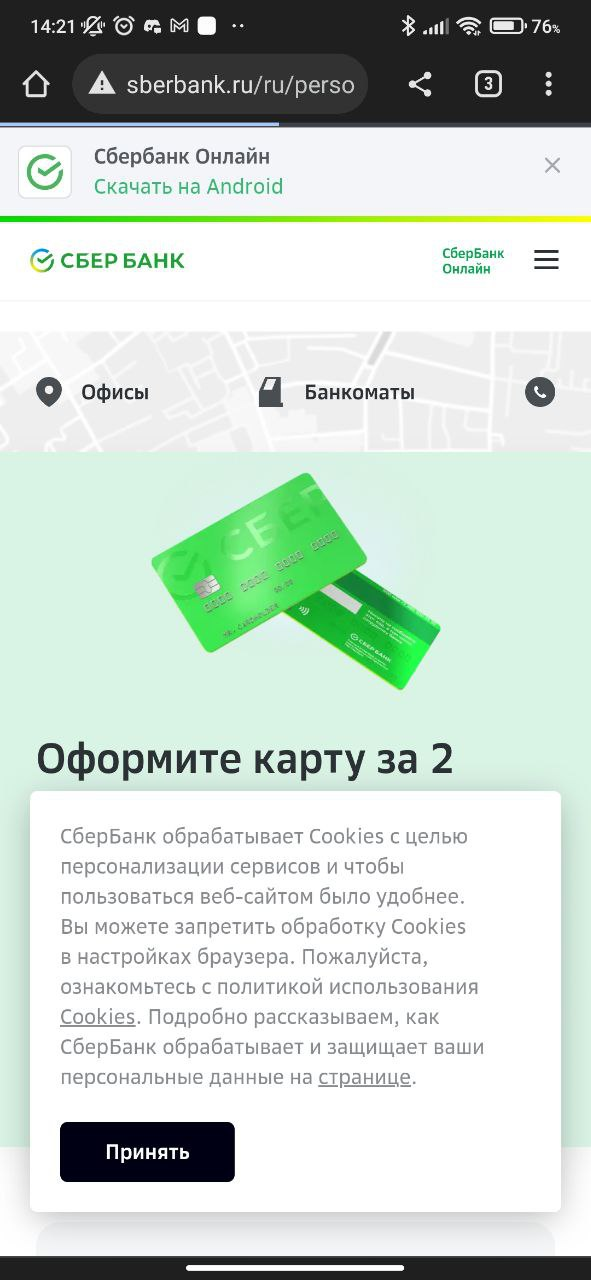burger_menu: (527, 245, 567, 277)
